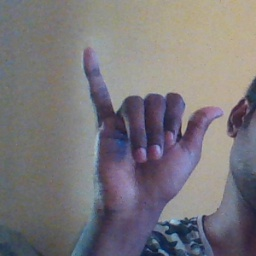J: (75, 46, 226, 207)
